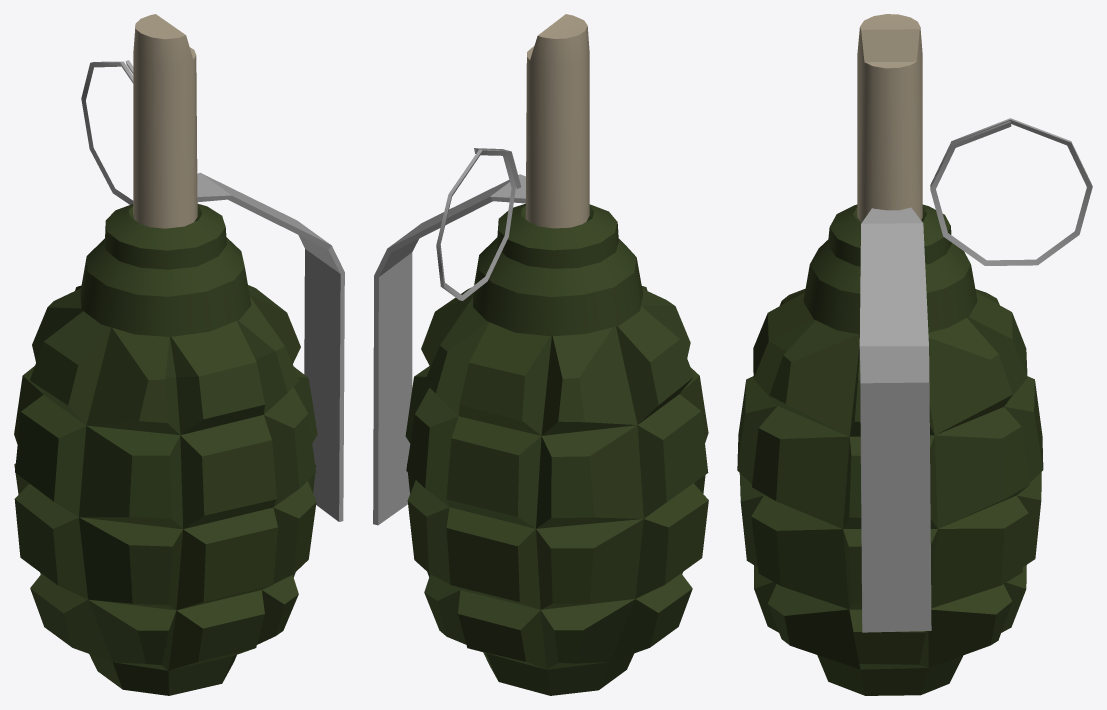
The model's file is weapon_grenade.fbx.
The picture shows the model from 3 angles, left to right: view 1: azimuth 30°, elevation 25°; view 2: azimuth 150°, elevation 25°; view 3: azimuth 270°, elevation 25°; orthographic projection.
Parts seen in each view (by area): view 1: weapon_grenade; view 2: weapon_grenade; view 3: weapon_grenade.
Boxes of the visible parts, x1,y1,x2,y2 form: weapon_grenade: (14, 14, 344, 695); weapon_grenade: (373, 14, 708, 695); weapon_grenade: (737, 14, 1092, 695).
Size of the model in its own units: 10.36 by 21.42 by 10.73.
Materials: 1 (1 with a texture image).
